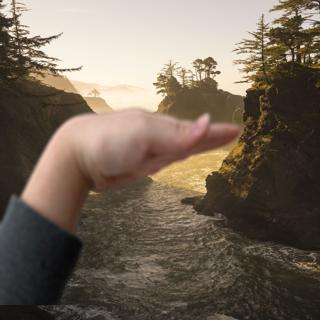Wait: (29, 102, 248, 205)
